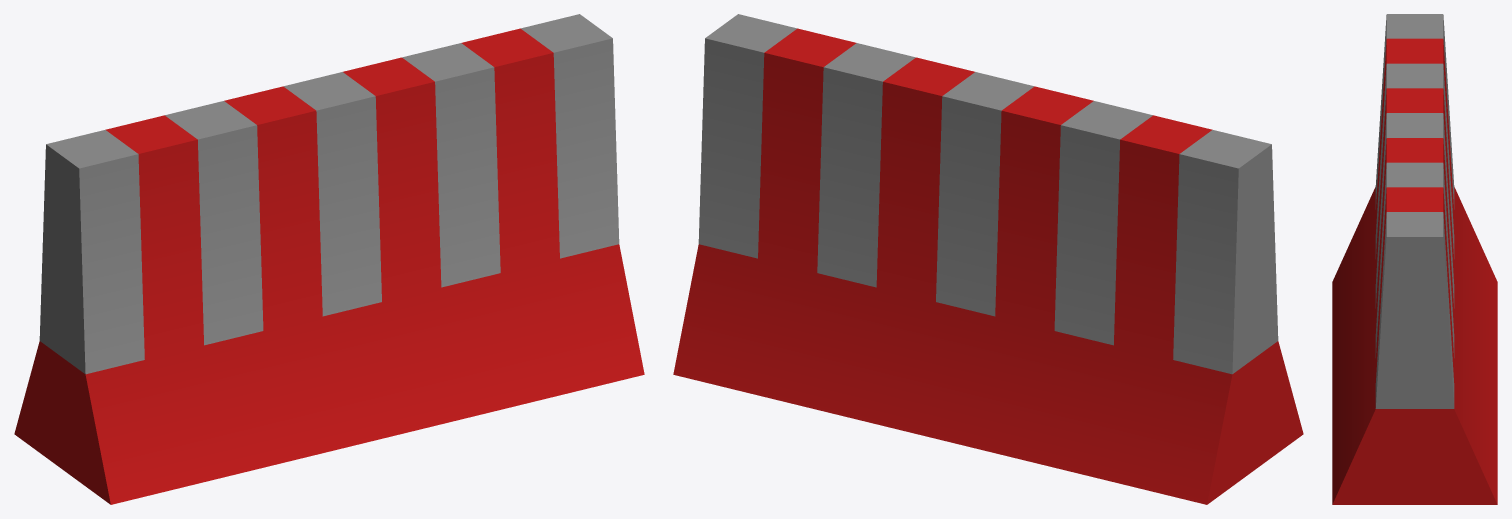
File: divider.fbx
3 views of the same model, side by side, from view 1: azimuth 30°, elevation 25°; view 2: azimuth 150°, elevation 25°; view 3: azimuth 270°, elevation 25° (orthographic). The views are drawn at different scales.
Visible parts, largest first — view 1: divider; view 2: divider; view 3: divider.
Boxes of the visible parts, left/top/right/bottom form: divider: left=14, top=14, right=644, bottom=504; divider: left=673, top=14, right=1303, bottom=504; divider: left=1332, top=14, right=1497, bottom=504.
Bounding box in the file's own units: 526 × 295 × 165.
